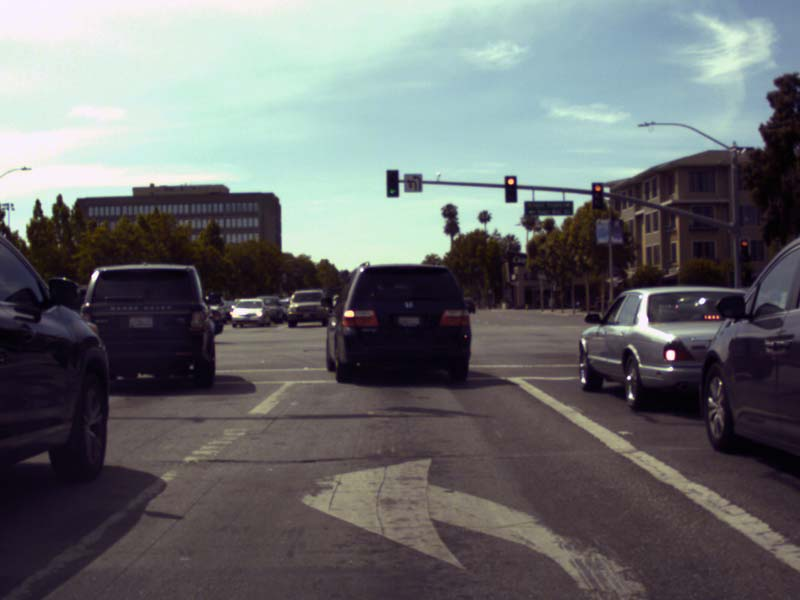Green: (386, 169, 398, 198)
Red: (504, 175, 516, 202), (591, 182, 602, 211), (739, 237, 749, 262)
